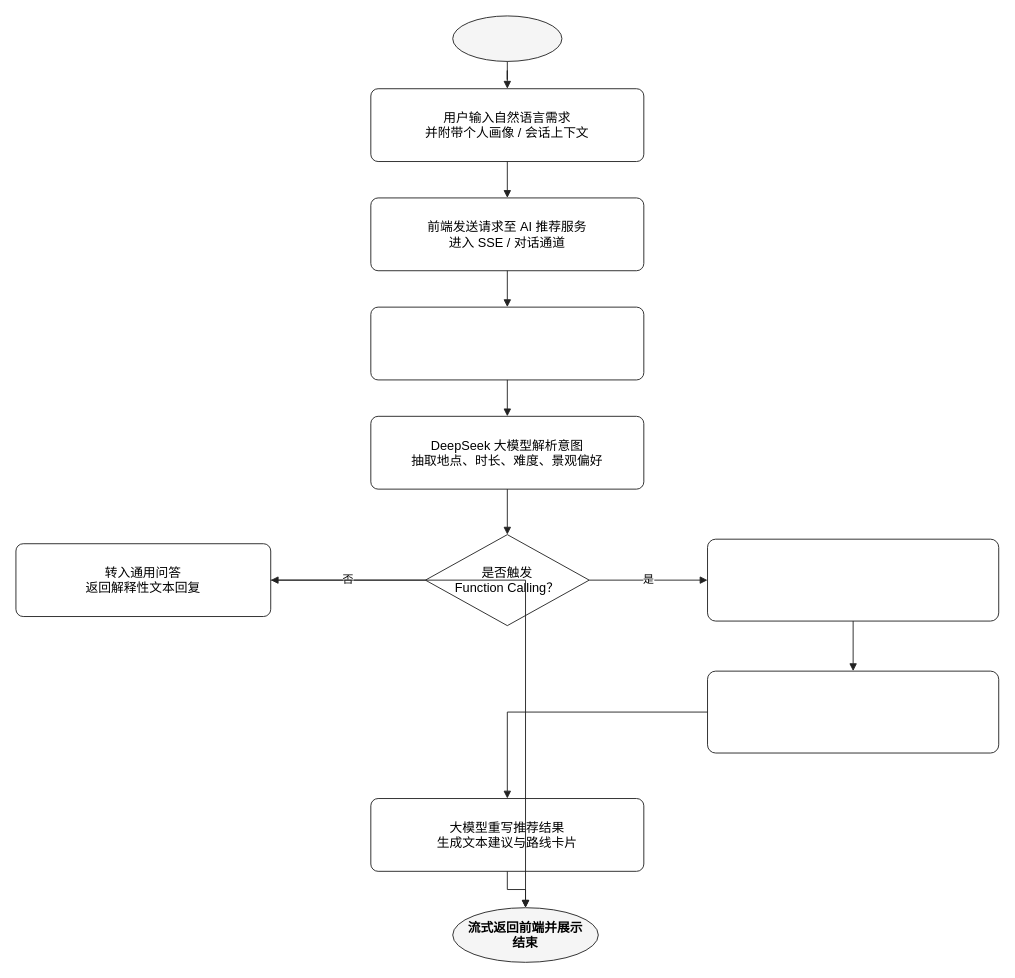
Some shapes in this 1015 by 978 pixel diagram are drawn without their labels. Here are the shapes that lost their labels. From the top down, the centre of each, then its label:
At pixel 507 38: "开始".
At pixel 507 343: "后端构造 Prompt 与工具描述 注册路线检索与环境查询能力".
At pixel 853 579: "调用路线检索、天气 / 景观服务 查询候选路线与环境信息".
At pixel 853 711: "后端完成参数校验、候选排序 融合热度、评分、天气与景观预测".
